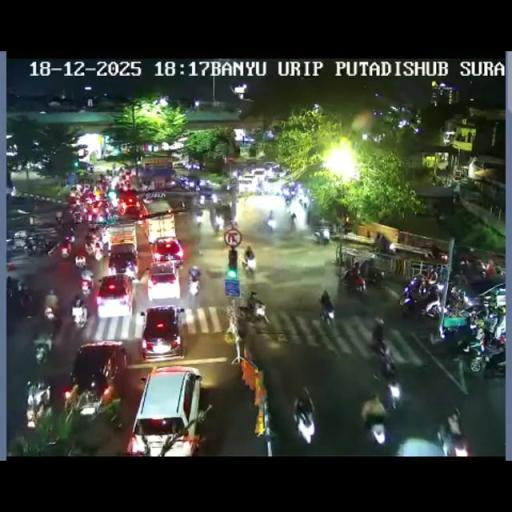Car: (126, 364, 202, 454), (67, 342, 129, 418), (139, 304, 185, 360), (95, 274, 135, 318), (146, 262, 182, 302), (25, 380, 51, 427), (107, 242, 139, 278), (150, 236, 184, 267), (117, 190, 144, 218), (250, 169, 266, 188), (238, 174, 254, 192), (265, 170, 280, 184), (262, 162, 278, 172)
Motorcycle: (8, 254, 88, 335), (263, 186, 314, 232), (462, 328, 505, 374), (399, 279, 442, 322), (372, 351, 402, 408), (437, 410, 466, 452), (238, 292, 270, 328), (362, 404, 388, 445), (294, 406, 316, 443), (340, 267, 366, 296), (446, 286, 470, 315), (481, 306, 504, 336), (58, 203, 82, 229), (319, 295, 336, 326), (70, 302, 88, 328), (63, 384, 79, 413), (362, 267, 384, 287), (371, 318, 385, 348), (34, 338, 50, 364), (18, 289, 34, 313), (6, 276, 22, 300), (84, 235, 100, 259), (48, 309, 63, 334), (80, 268, 94, 294), (58, 238, 74, 260), (454, 252, 472, 271), (187, 274, 200, 298), (474, 259, 490, 278), (102, 202, 118, 221), (242, 256, 255, 279), (424, 267, 438, 287), (374, 232, 388, 252), (208, 202, 218, 225), (44, 238, 58, 254), (25, 238, 38, 255), (74, 251, 86, 268), (314, 230, 328, 244), (177, 176, 191, 189), (264, 217, 276, 231), (102, 240, 110, 258), (299, 196, 309, 210), (212, 220, 221, 234), (195, 212, 203, 227), (342, 222, 352, 234), (230, 218, 240, 230), (284, 194, 292, 208), (290, 214, 296, 230), (198, 194, 206, 204), (210, 193, 218, 203), (56, 210, 62, 222), (267, 210, 274, 220), (194, 182, 200, 191), (180, 200, 186, 209)
